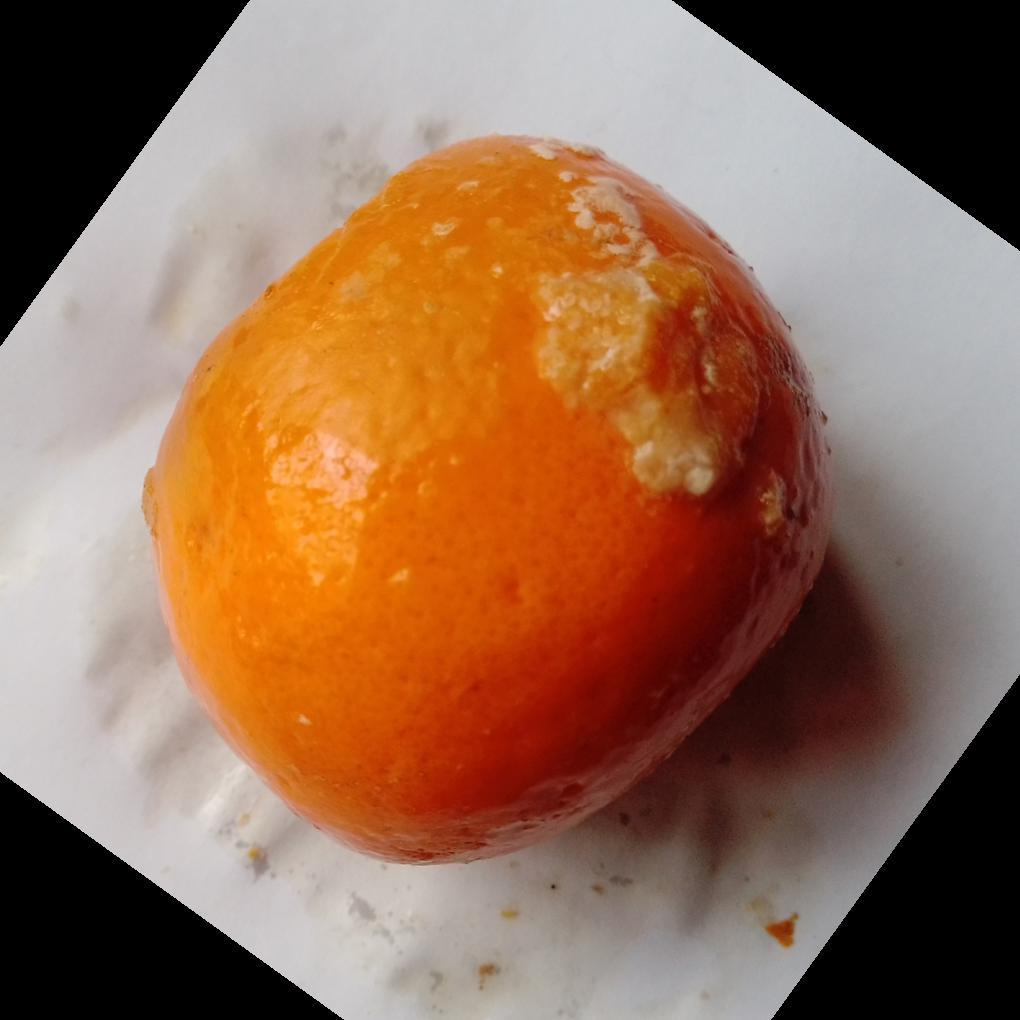FreshOrange: (138, 135, 835, 870)
